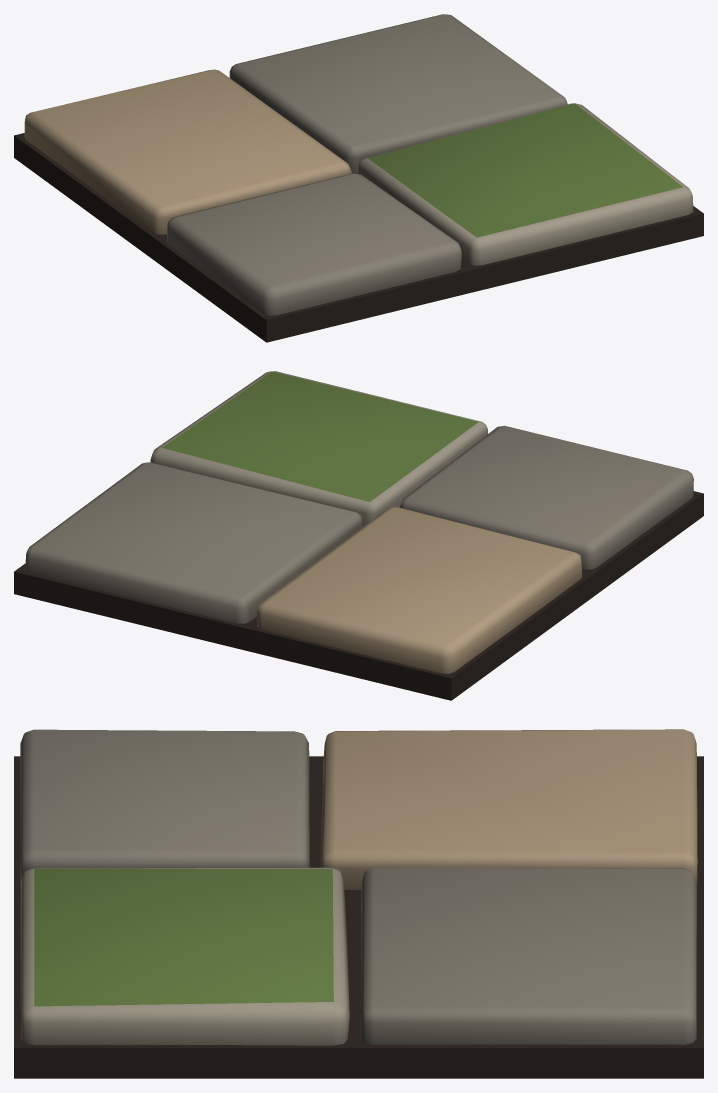
The model's file is kit_cap1.glb.
3 views of the same model, one above another, from view 1: azimuth 30°, elevation 25°; view 2: azimuth 150°, elevation 25°; view 3: azimuth 270°, elevation 25° (orthographic). The views are drawn at different scales.
Visible parts, largest first — view 1: kit_cap1; view 2: kit_cap1; view 3: kit_cap1.
Boxes of the visible parts, x1,y1,x2,y2 form: kit_cap1: (14, 14, 703, 342); kit_cap1: (14, 371, 703, 700); kit_cap1: (14, 729, 703, 1078).
Bounding box in the file's own units: 1.02 × 0.1117 × 1.02.
